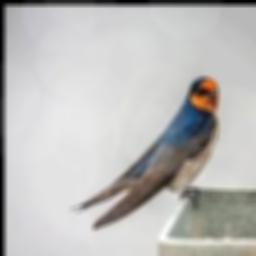Swallow: (70, 77, 218, 230)
